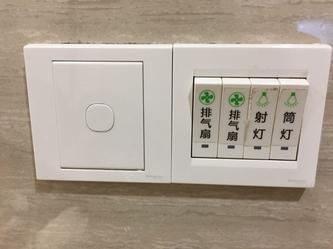switch: (249, 78, 276, 162), (278, 77, 305, 161), (195, 75, 220, 157), (221, 76, 244, 159)
